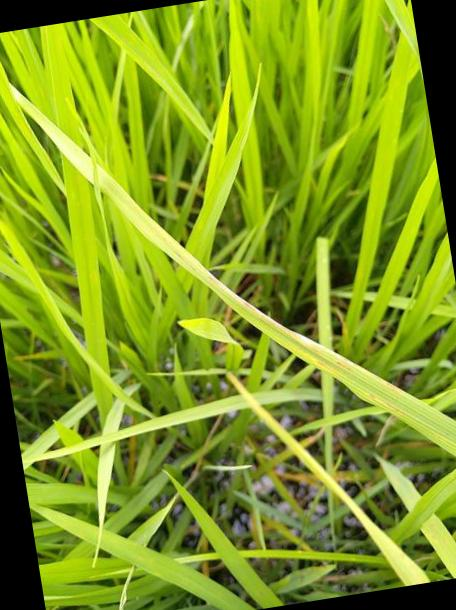Leaf Blight: (12, 90, 456, 457)
